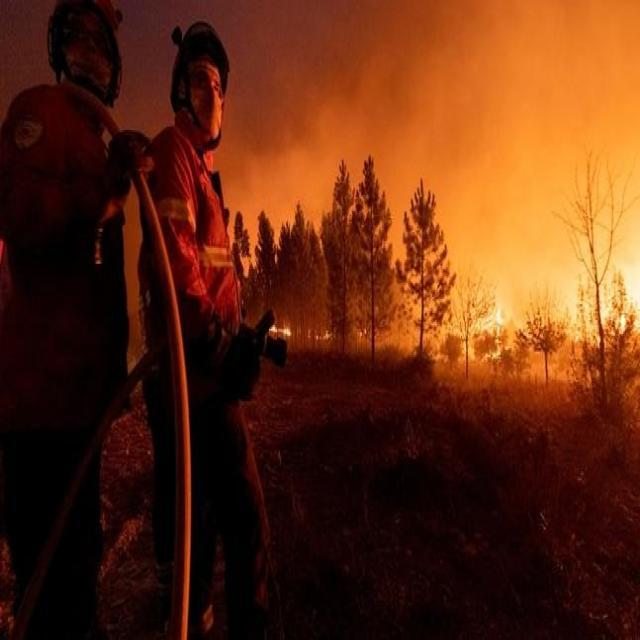Smoke: (211, 0, 631, 242)
